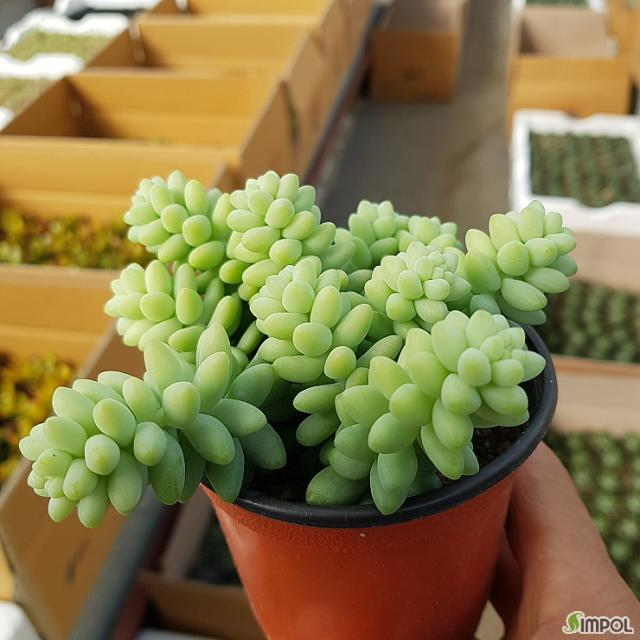Sedum: (20, 322, 285, 528), (295, 310, 545, 514), (250, 258, 402, 447), (219, 171, 355, 300), (464, 203, 576, 323), (105, 260, 242, 355), (125, 171, 232, 277), (365, 241, 470, 336)
